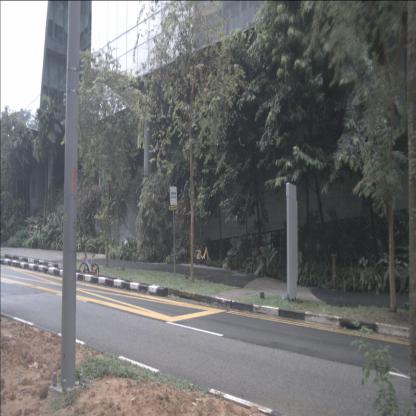vehicle-bicycle: (79, 247, 99, 278), (194, 243, 212, 266)
